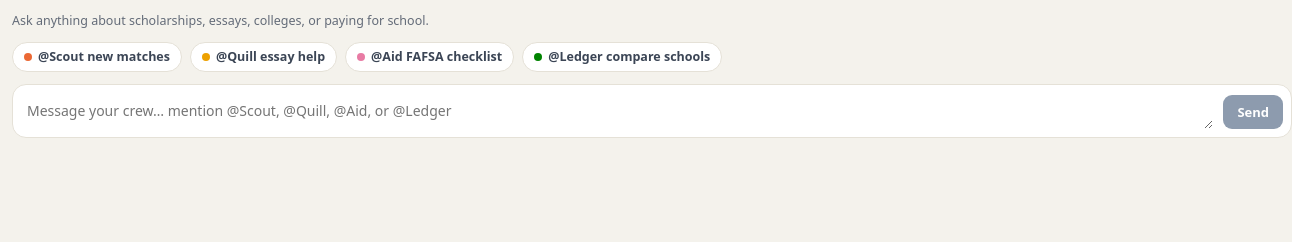
Test: Thread › opens a lazy context room on the first send (openRoom)
Type "Is my essay a fit?" into the text box labelled "Message your crew" at point(620, 111), box [27,93,1213,129]
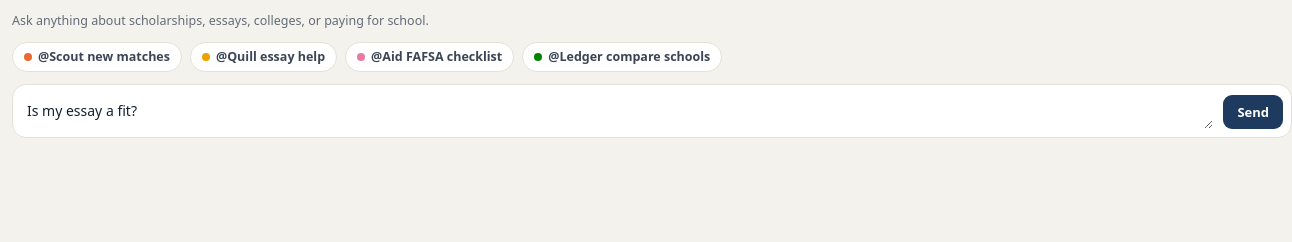
Click the button "Send" at point(1253, 112), box [1223,95,1283,129]
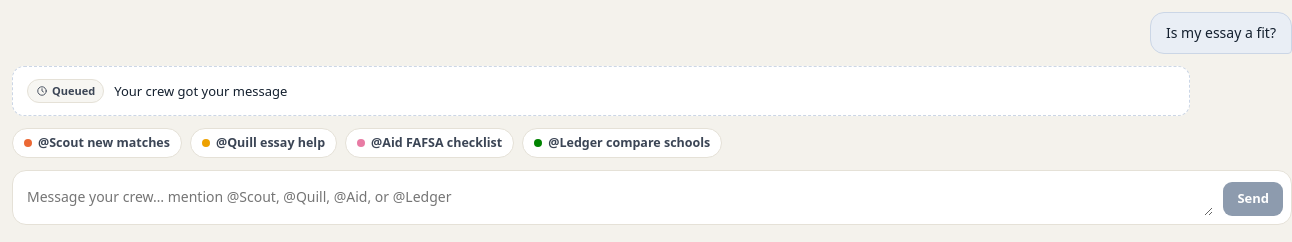
Now the text "Is my essay a fit?" is shown, box [1150,12,1291,54]
